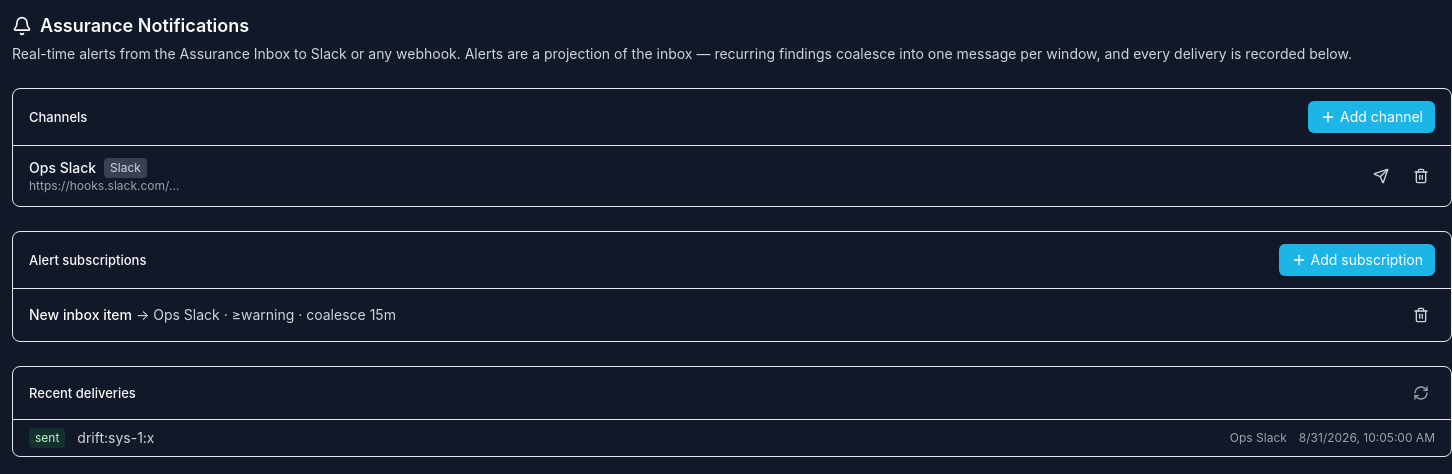
Test: NotificationSettingsTab › test-send surfaces the outcome verbatim
Click the button titled "Send test message" at (1381, 176), box [1367, 162, 1395, 190]
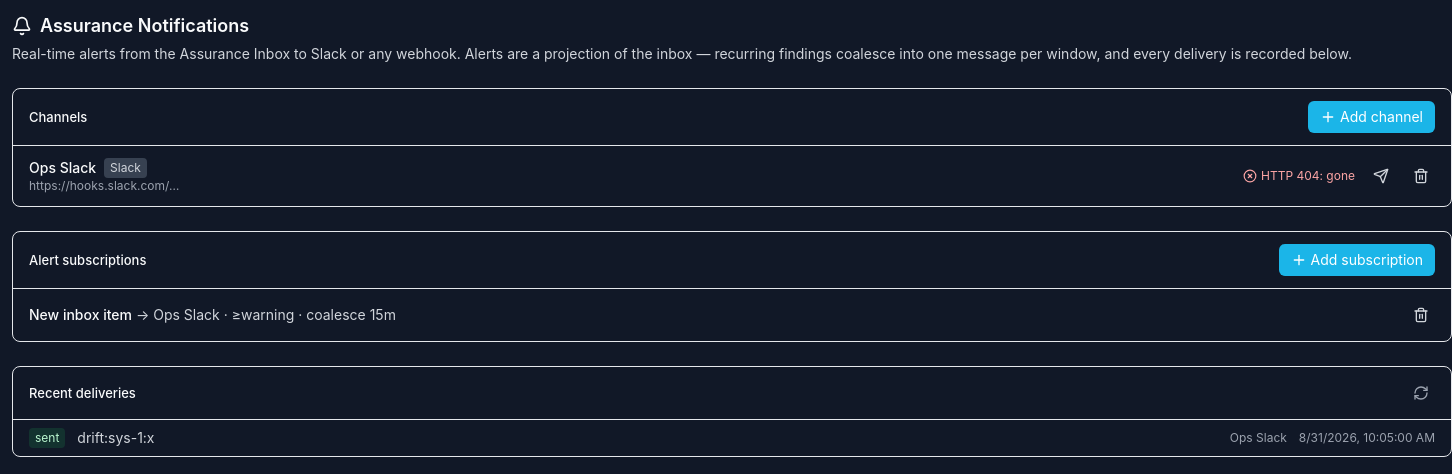
Now the element with test id "test-result" reads "HTTP 404: gone", box [1261, 168, 1355, 183]
